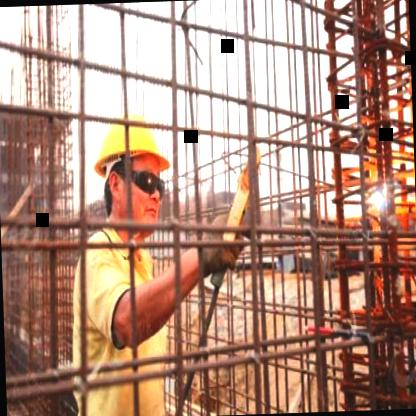helmet: (93, 112, 172, 245)
